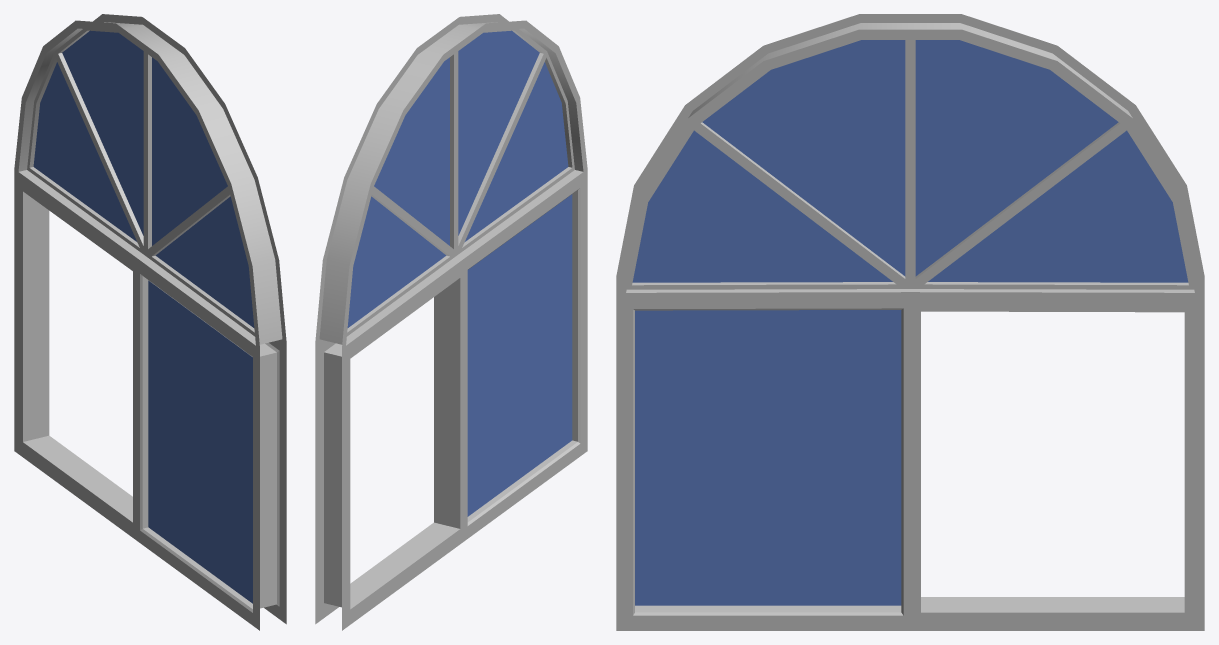
Rendered from win23_frame.fbx.
The picture shows the model from 3 angles, left to right: view 1: azimuth 30°, elevation 25°; view 2: azimuth 150°, elevation 25°; view 3: azimuth 270°, elevation 25°; orthographic projection. The views are drawn at different scales.
Parts seen in each view (by area): view 1: Cylinder_2_2_2; view 2: Cylinder_2_2_2; view 3: Cylinder_2_2_2.
Boxes of the visible parts, x1,y1,x2,y2 form: Cylinder_2_2_2: [14, 14, 286, 630]; Cylinder_2_2_2: [315, 14, 587, 630]; Cylinder_2_2_2: [616, 14, 1204, 630].
Bounding box in the file's own units: 11.62 × 210 × 186.
